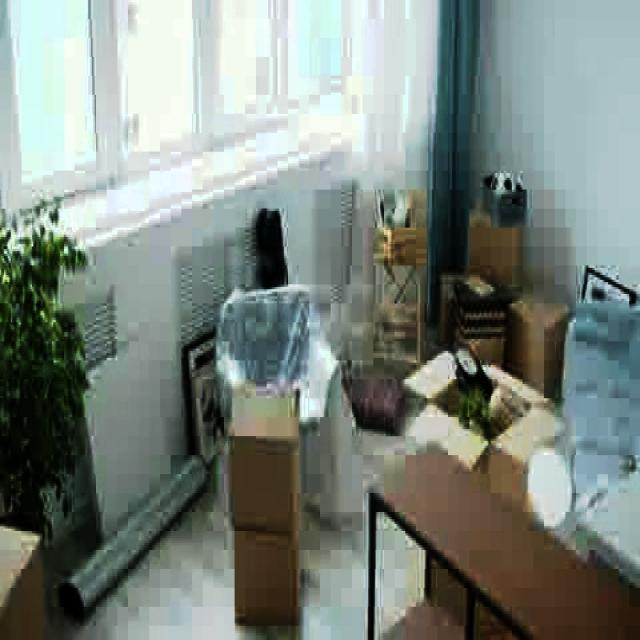Box: (228, 397, 304, 522), (232, 522, 306, 610), (510, 306, 559, 392), (472, 219, 519, 287)
